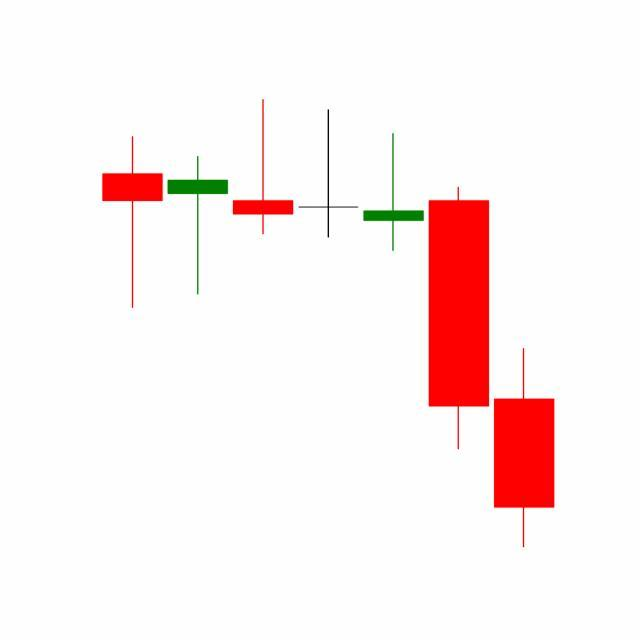Three Outside Up-Down: (360, 129, 556, 549)
